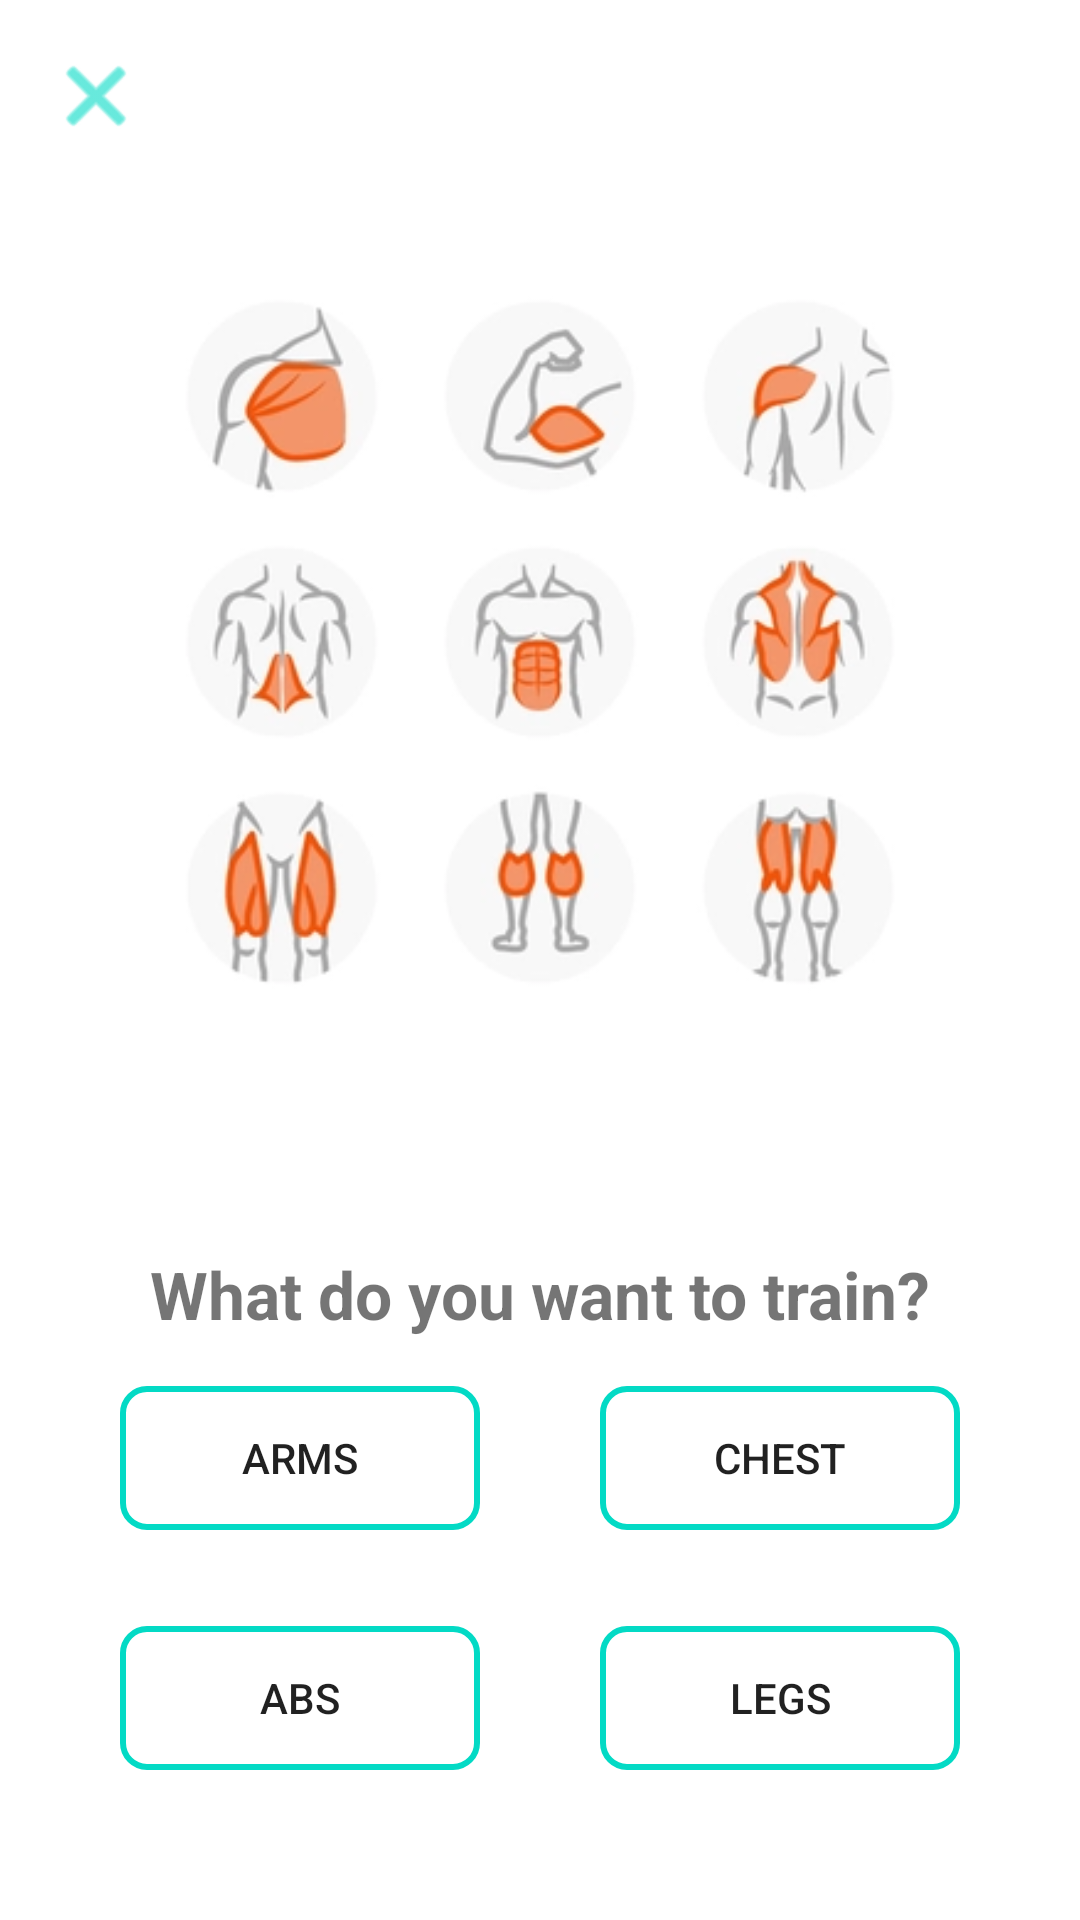

Screen size 1080*1920. Icon name, then its center in pixels as (x=x, y=y):
close clear cancel: (x=96, y=96)
